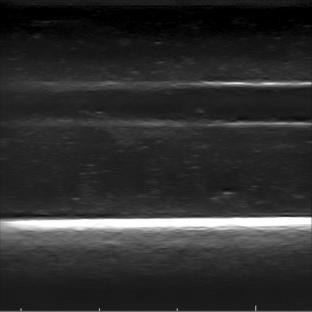vessel: (68, 79, 311, 131)
